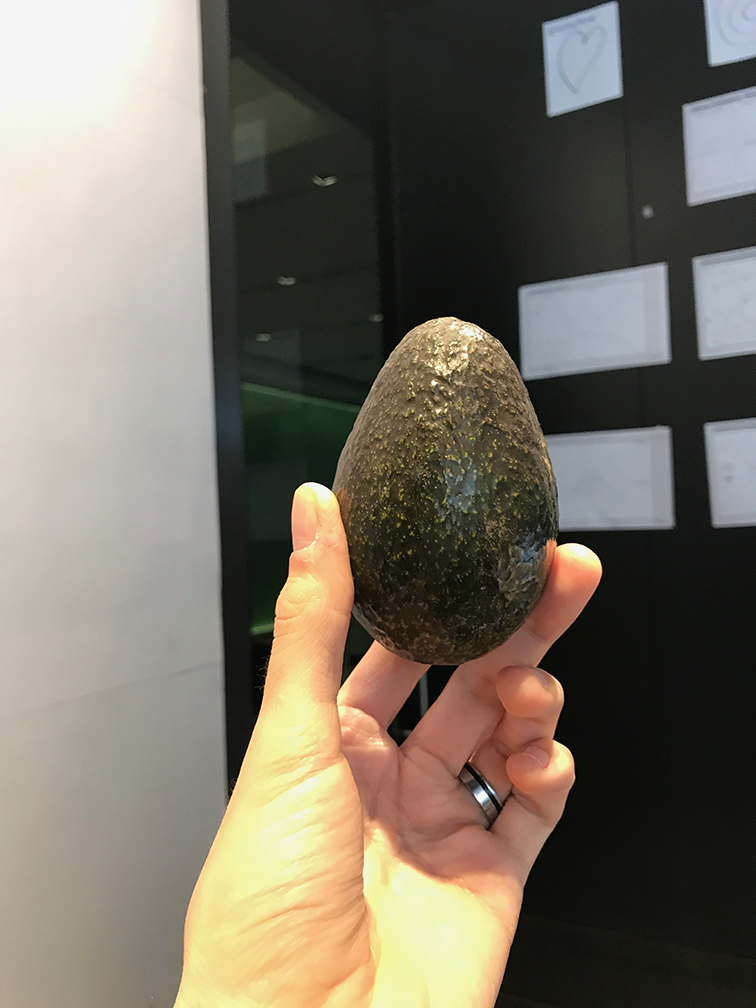avocado: (322, 303, 570, 675)
